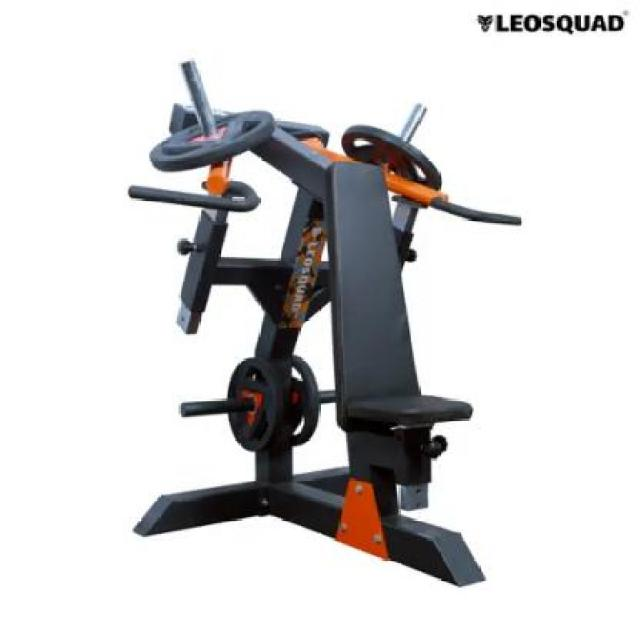shoulder press machine: (106, 41, 525, 597)
